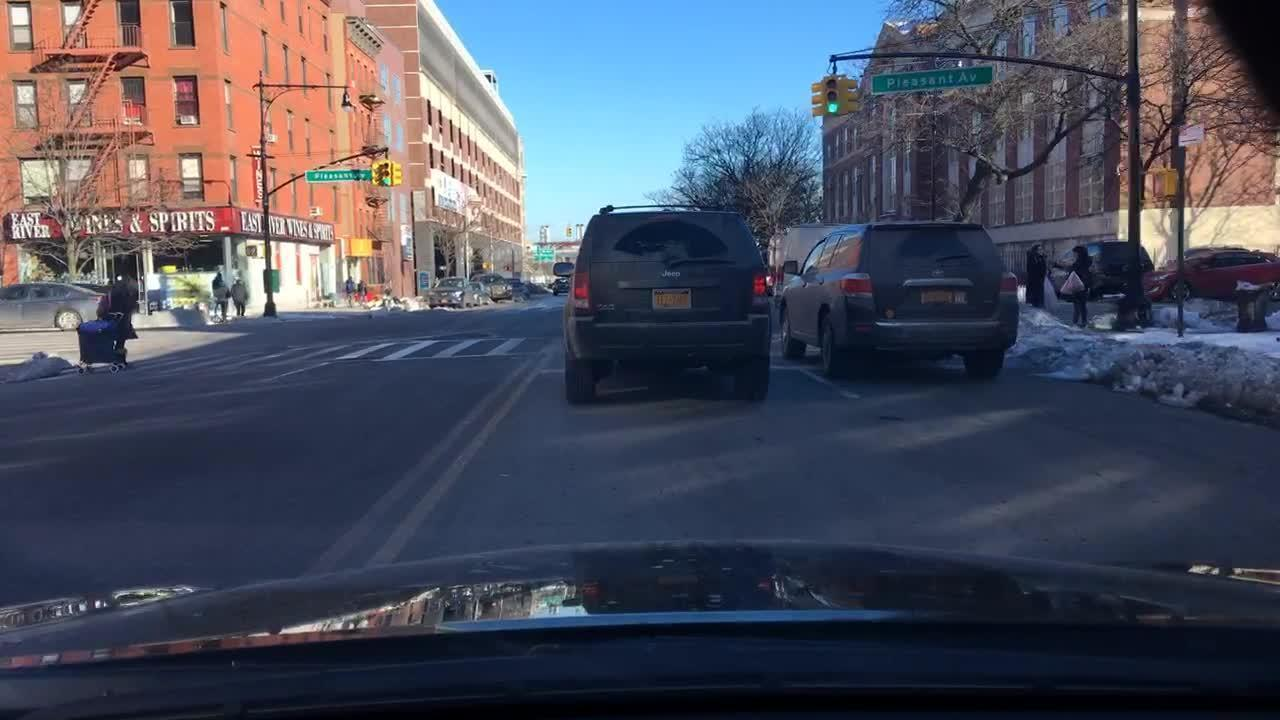jeep: (659, 263, 687, 280)
